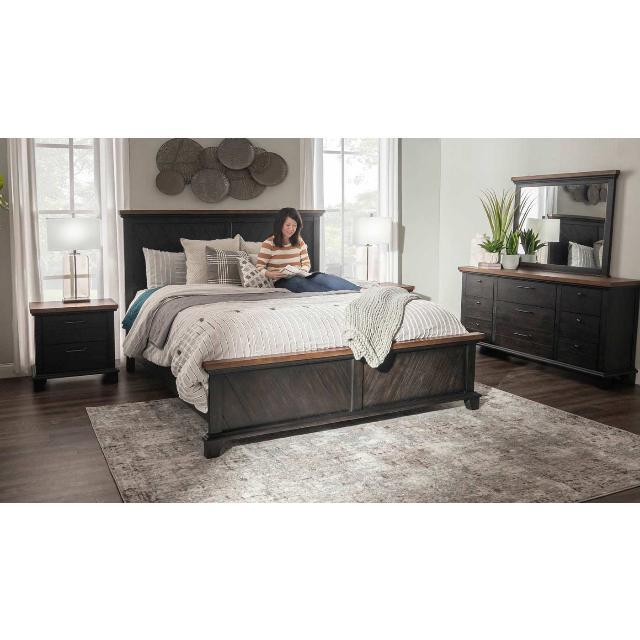bed: (122, 210, 477, 458)
dresser: (461, 261, 637, 405)
lamp: (47, 216, 104, 295)
side-table: (30, 296, 119, 394)
